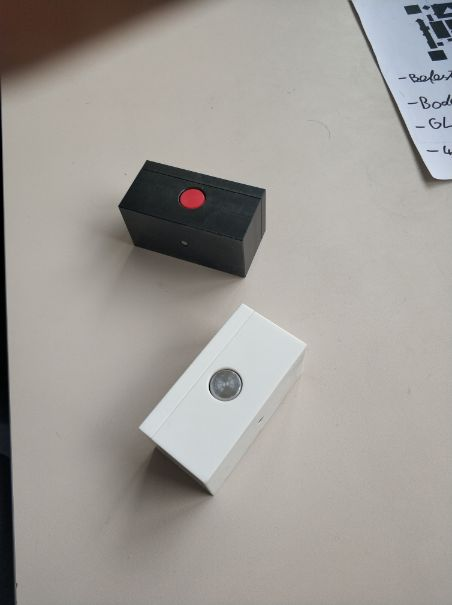black+black+red: (115, 158, 268, 279)
white+white+silver: (135, 303, 308, 500)
